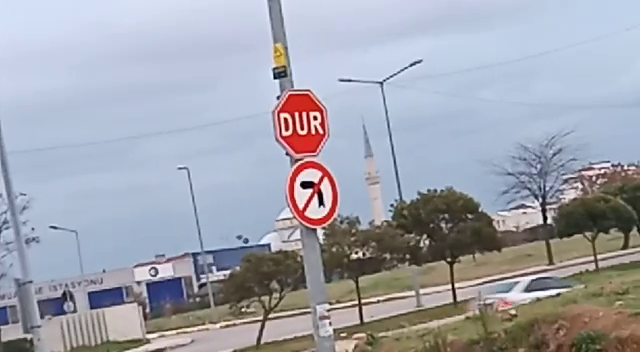no_left: (283, 157, 342, 231)
stop: (269, 87, 334, 161)
